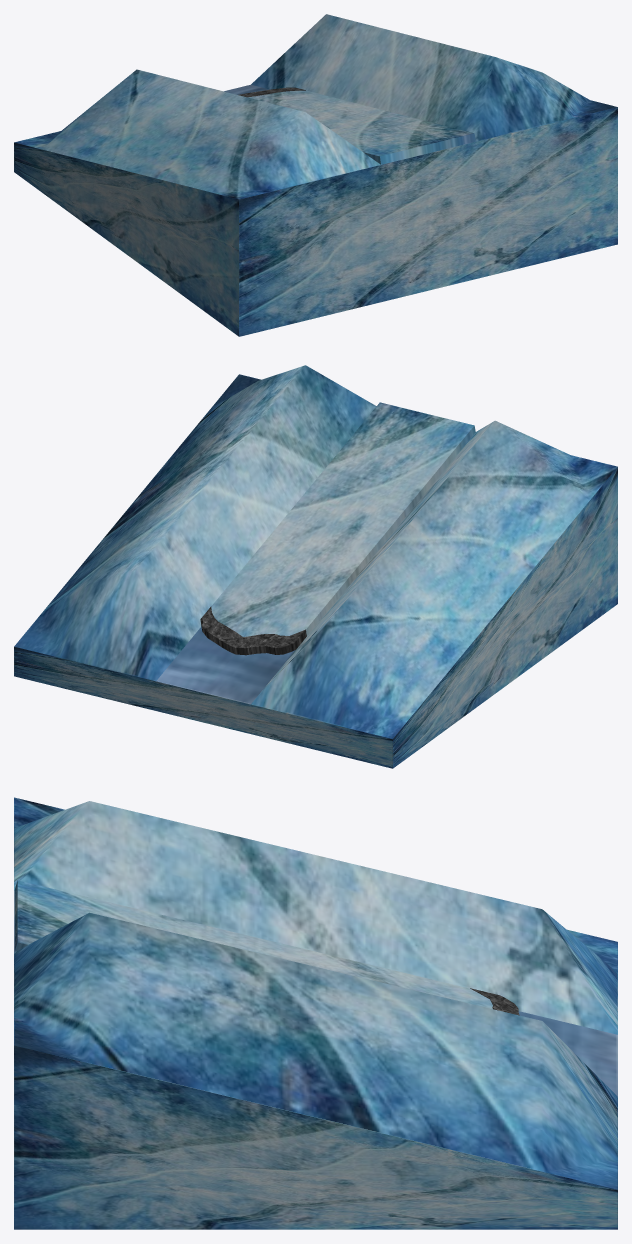
Rendered from 侧碛堤.gltf.
3 views of the same model, one above another, from view 1: azimuth 30°, elevation 25°; view 2: azimuth 150°, elevation 25°; view 3: azimuth 270°, elevation 25° (orthographic). The views are drawn at different scales.
Visible parts, largest first — view 1: node_Box001_-66204, node_004_-66208; view 2: node_Box001_-66204, node_004_-66208, node_003_-66206; view 3: node_Box001_-66204, node_004_-66208.
Part boxes in pixels (x1,y1,x2,y2): node_Box001_-66204: (14,14,617,336); node_004_-66208: (248,90,475,164); node_Box001_-66204: (14,365,617,768); node_004_-66208: (211,402,475,636); node_003_-66206: (200,606,306,655); node_Box001_-66204: (14,797,617,1229); node_004_-66208: (14,880,492,1008).
Bounding box in the file's own units: 2.25 × 1.08 × 2.31.
